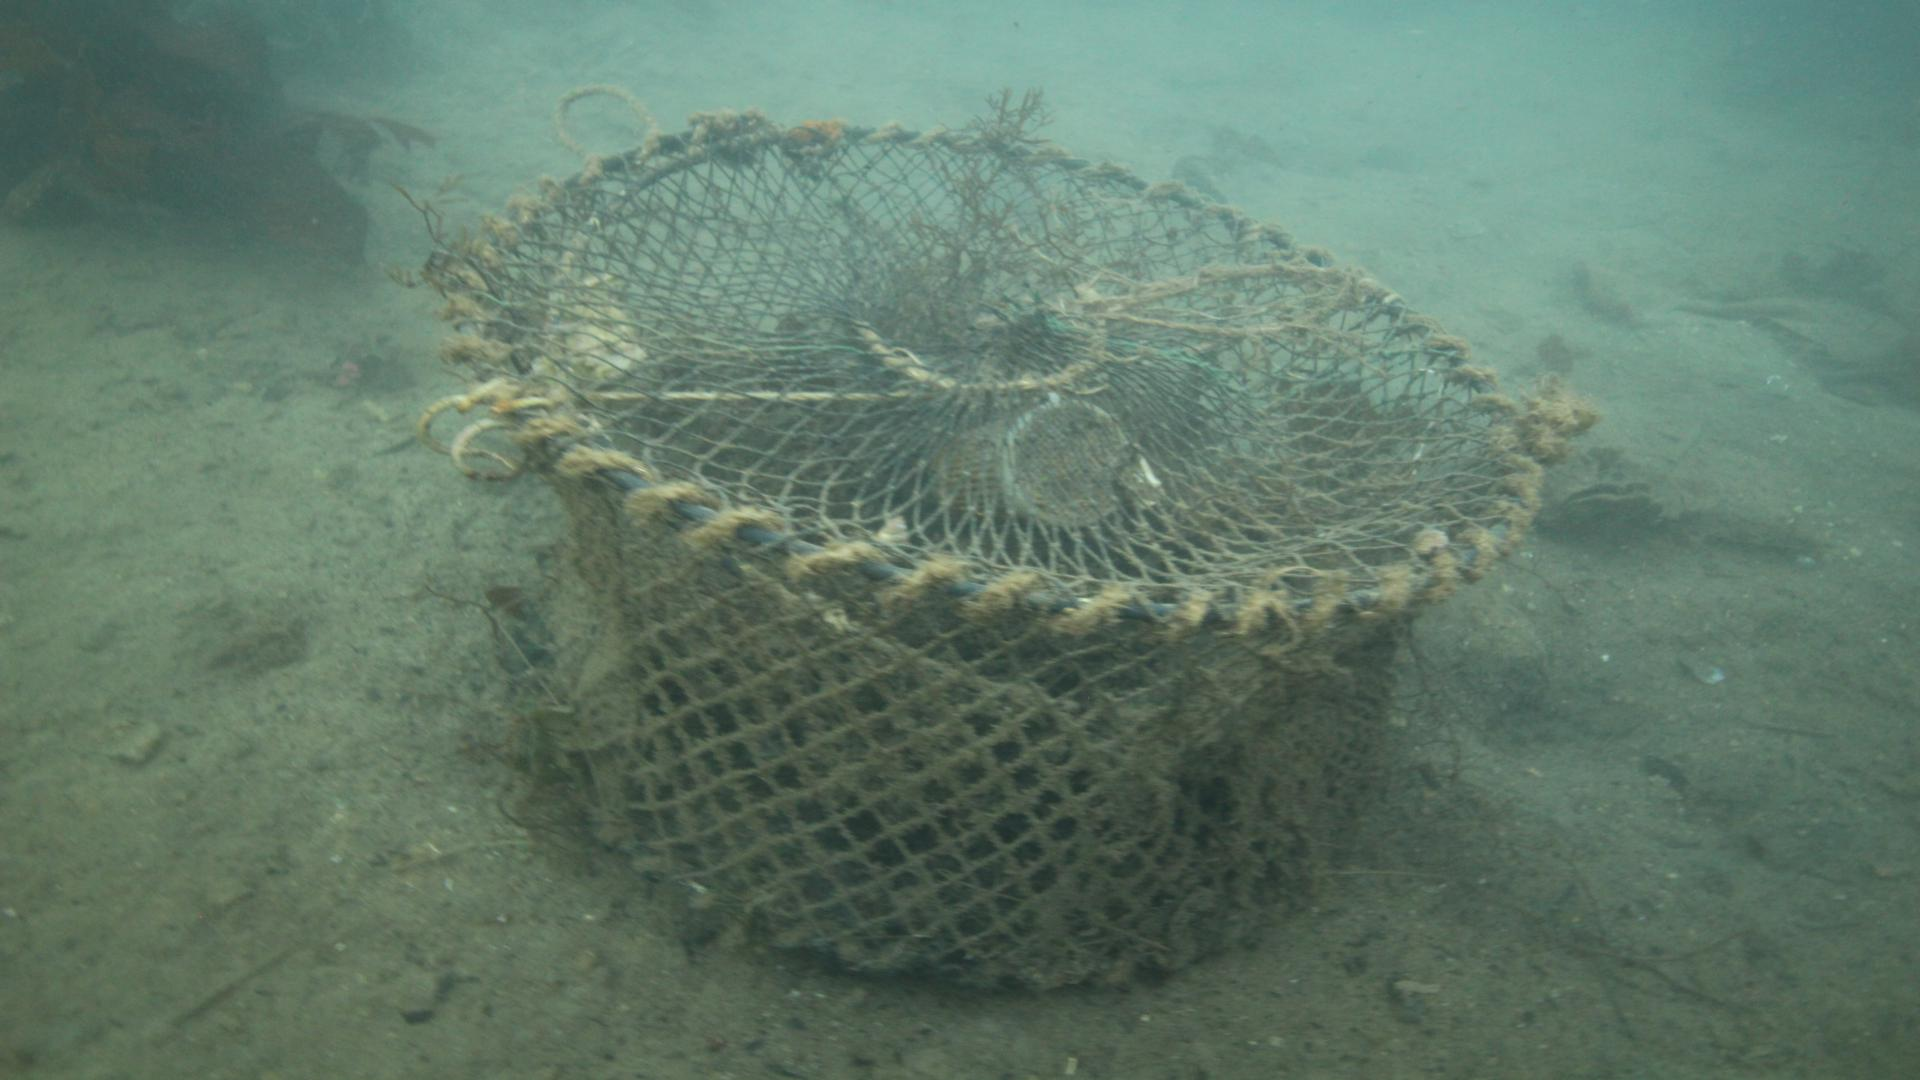circular fish trap: (443, 112, 1555, 1002)
rope: (547, 79, 666, 158)
